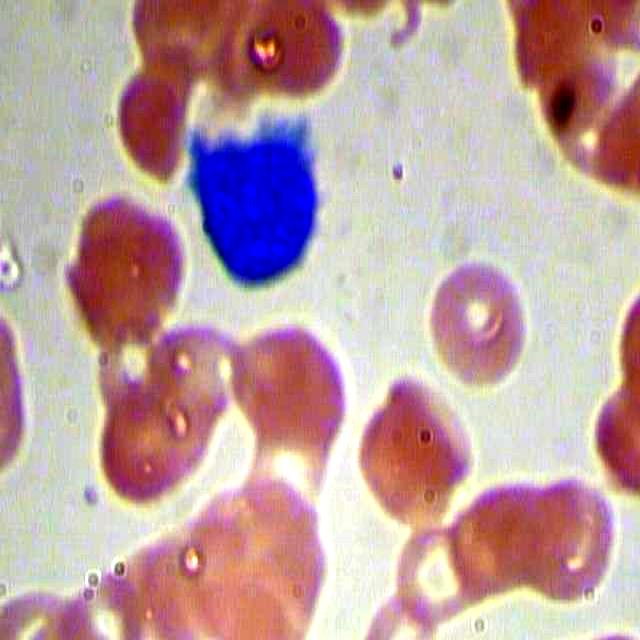RBC: (53, 188, 192, 349), (354, 369, 480, 524), (223, 307, 349, 461), (422, 255, 536, 388), (514, 477, 615, 607), (100, 65, 198, 180), (246, 1, 344, 115), (92, 387, 190, 501), (394, 518, 469, 626)
WBC: (160, 102, 334, 294)
